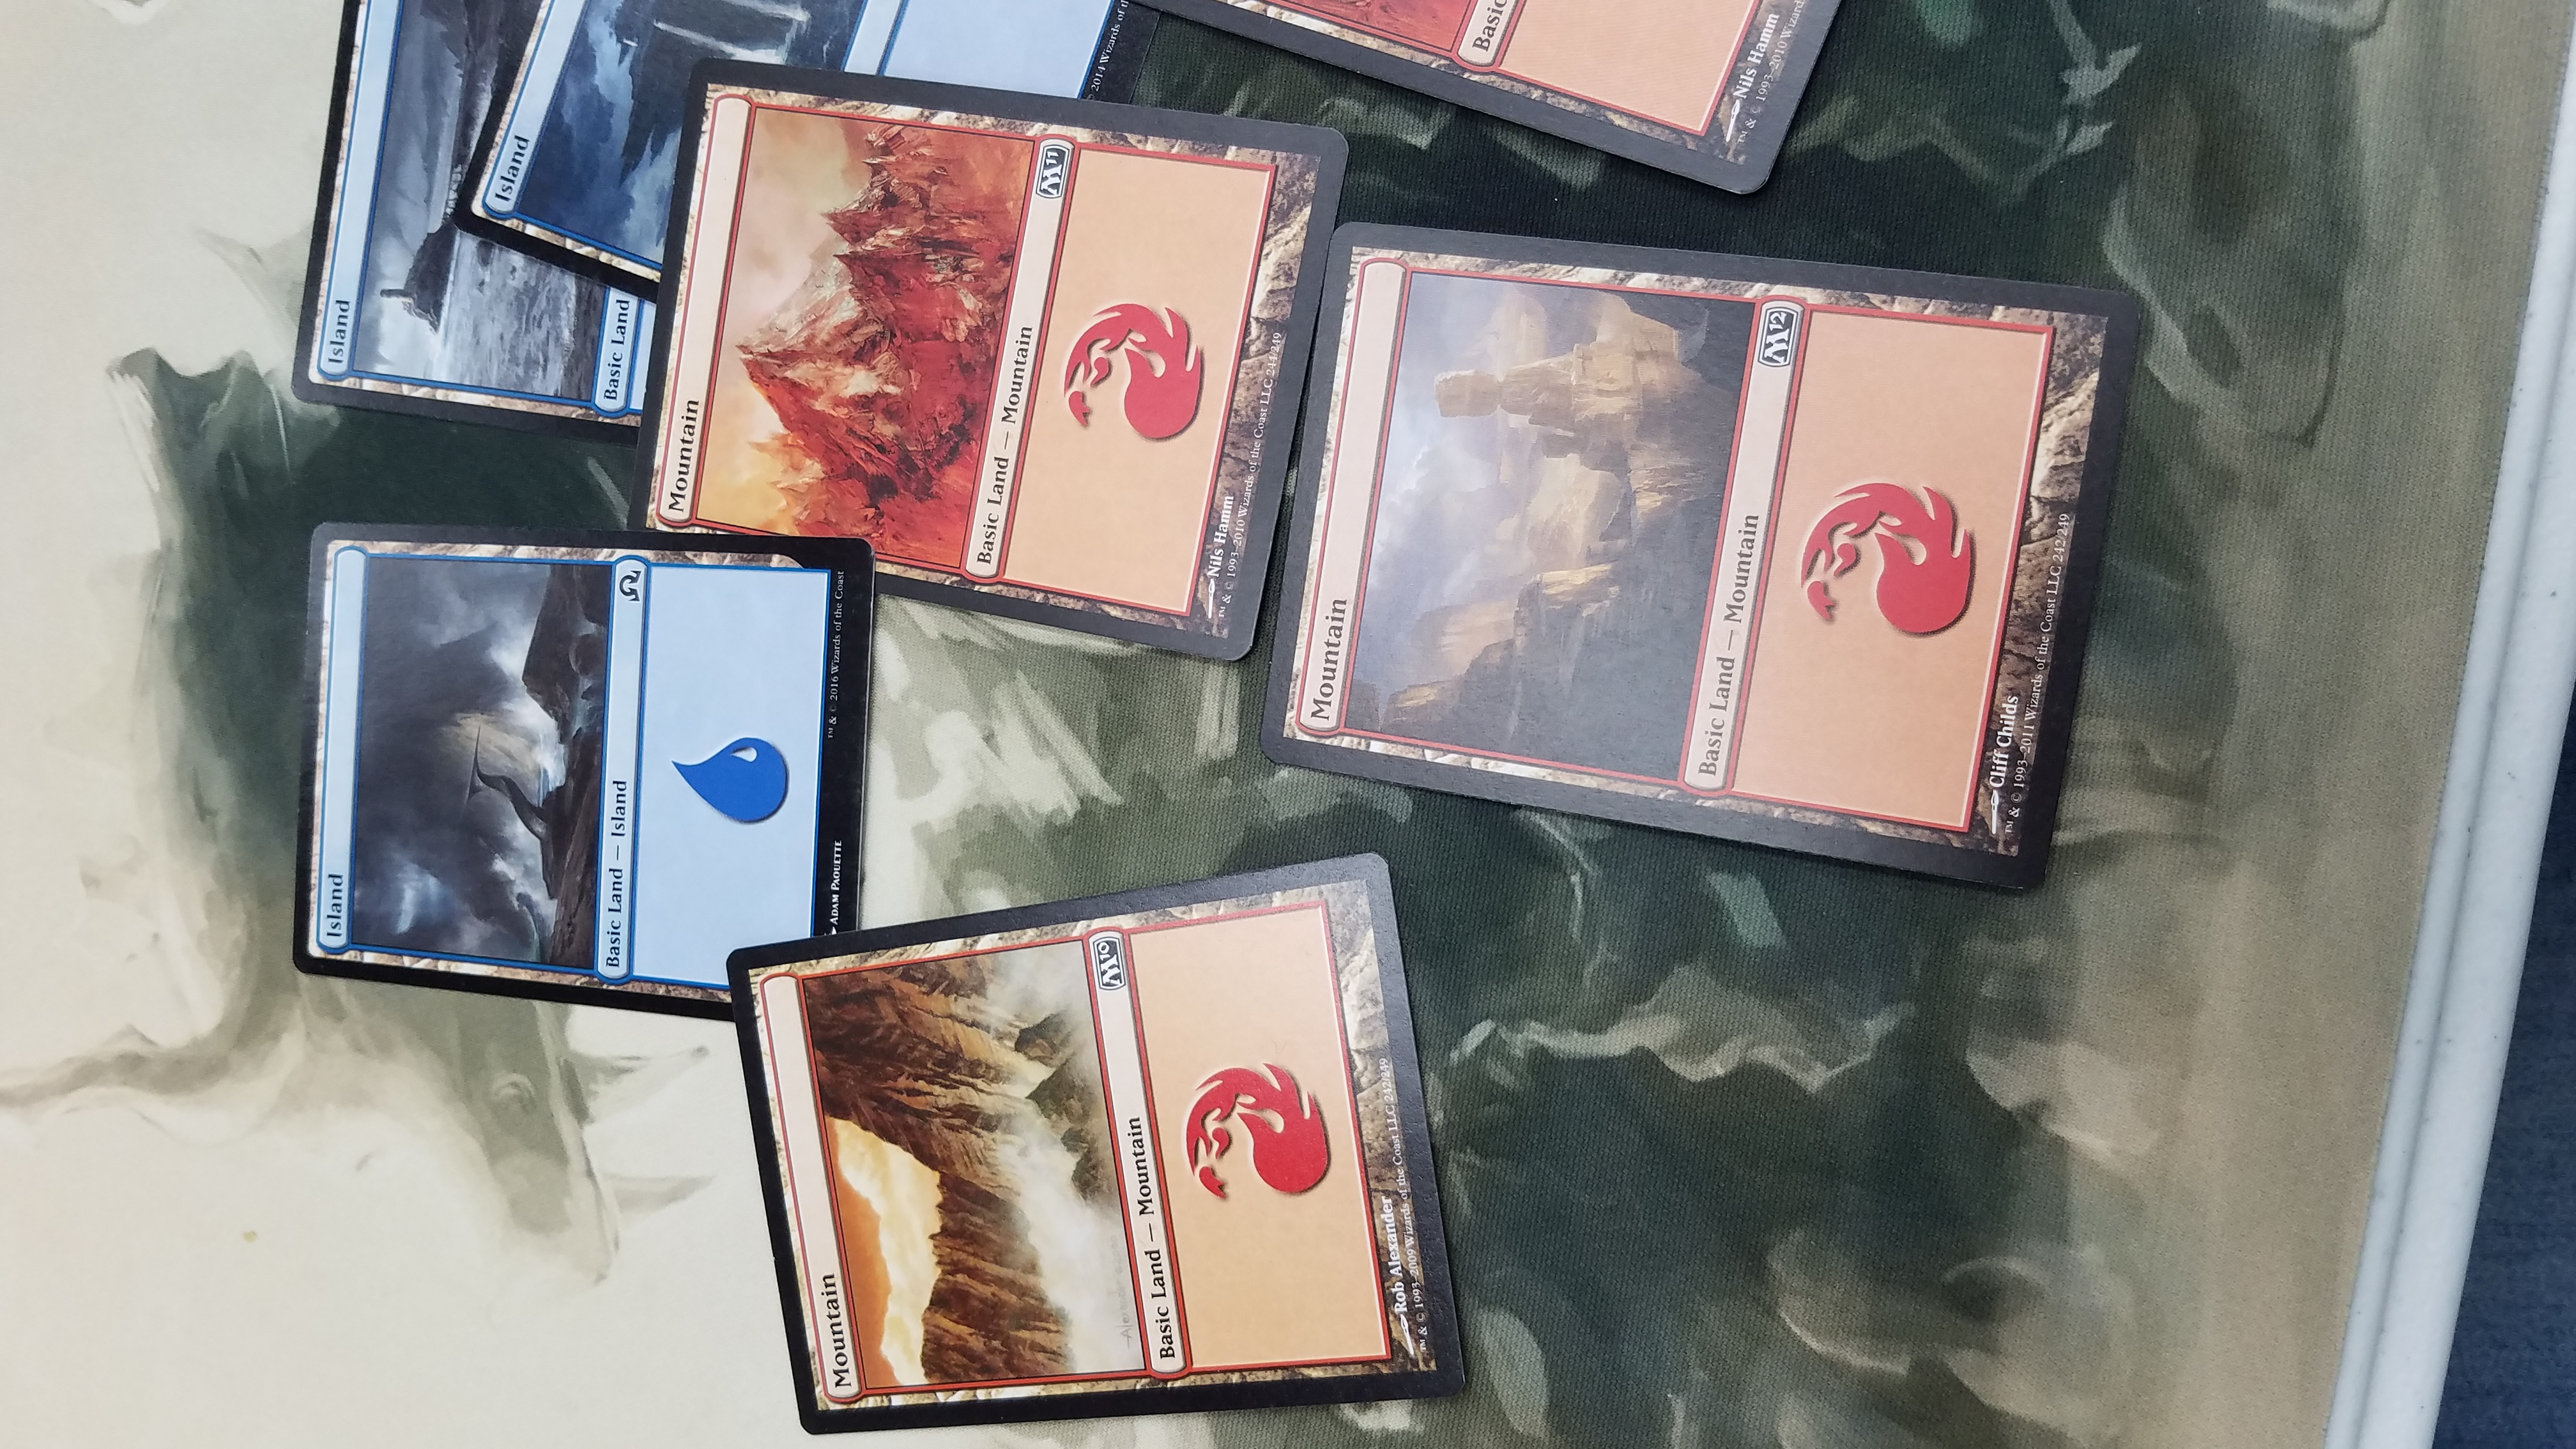Card: (1261, 221, 2148, 902), (729, 844, 1483, 1435), (626, 60, 1348, 669), (292, 511, 881, 1030), (451, 0, 1162, 318), (278, 0, 679, 446)
